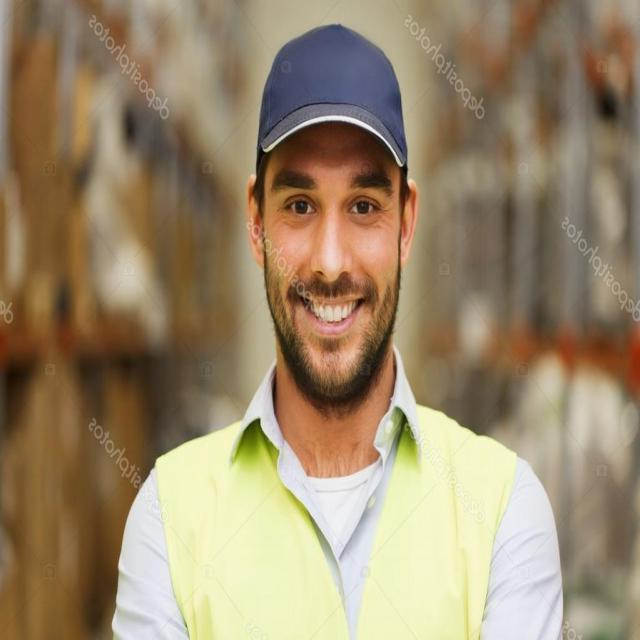safety_vest: (177, 390, 516, 640)
